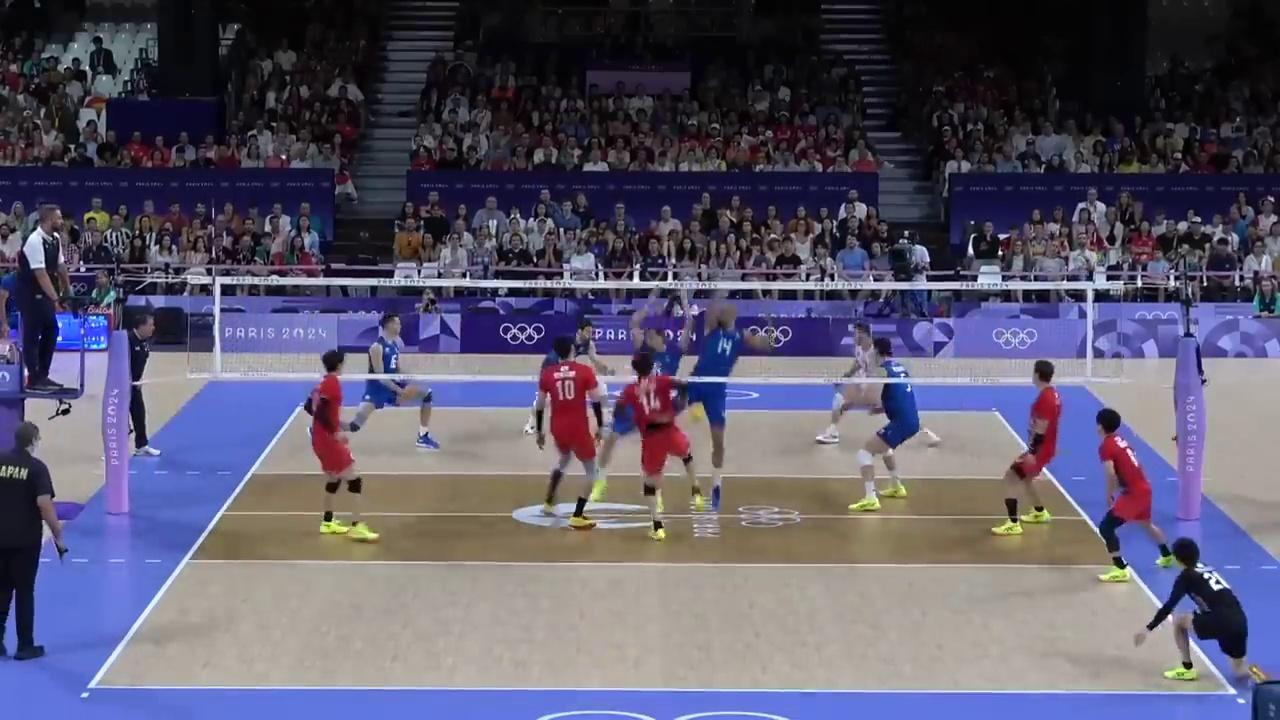ball: (689, 405, 703, 423)
